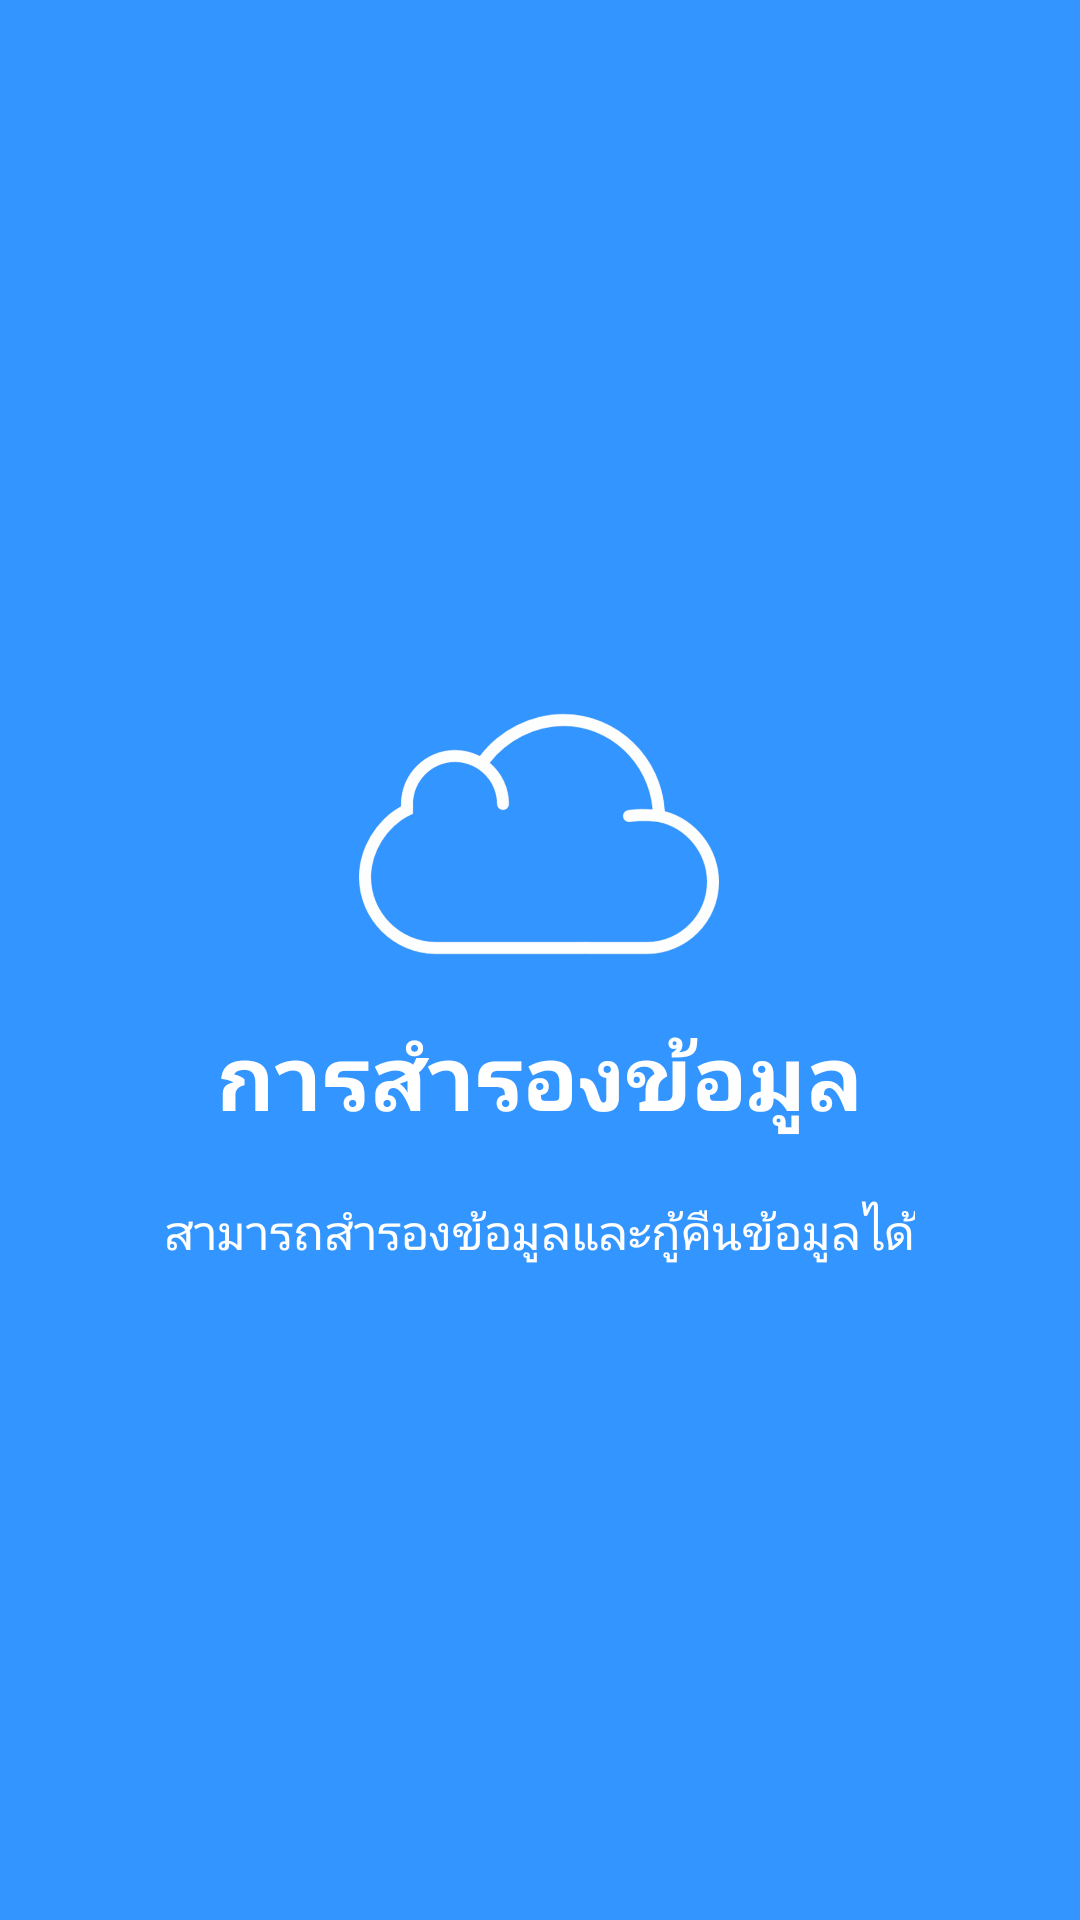

Icon bounding boxes for this 1080px×1920px phone screenshot, format Rect(x1, y1, x2, y2):
cloud: Rect(359, 714, 719, 955)
